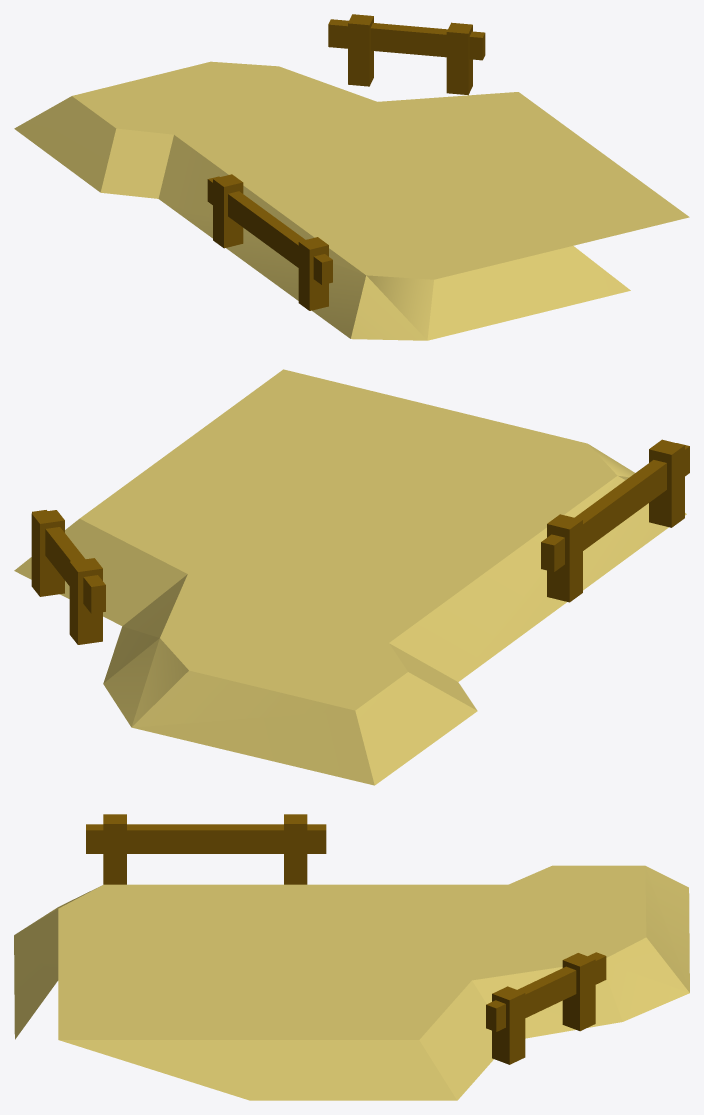
The model's file is ThreeWayQuarterFilled.fbx.
The picture shows the model from 3 angles, top to bottom: view 1: azimuth 30°, elevation 25°; view 2: azimuth 150°, elevation 25°; view 3: azimuth 270°, elevation 25°; orthographic projection. The views are drawn at different scales.
Parts seen in each view (by area): view 1: Normal - Three Way Quarter Filled; view 2: Normal - Three Way Quarter Filled; view 3: Normal - Three Way Quarter Filled.
Part boxes in pixels (x1,y1,x2,y2): Normal - Three Way Quarter Filled: [14, 14, 689, 340]; Normal - Three Way Quarter Filled: [14, 369, 689, 785]; Normal - Three Way Quarter Filled: [14, 814, 689, 1100].
Bounding box in the file's own units: 111 × 20.38 × 150.
